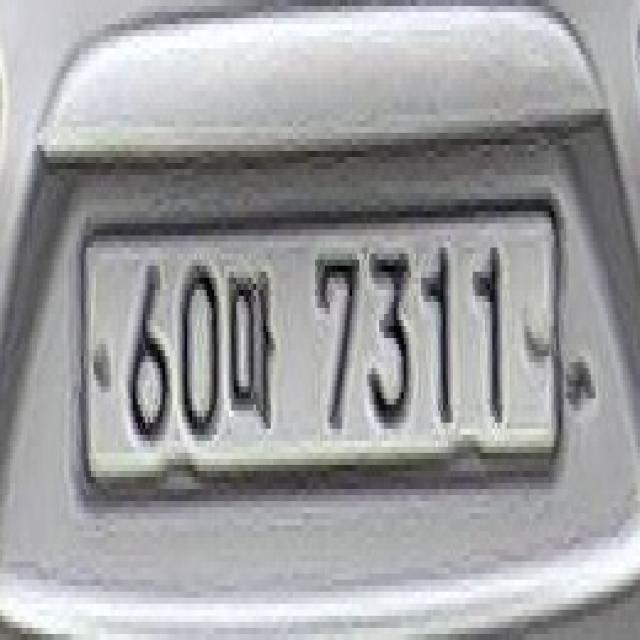0: (174, 252, 224, 443)
1: (464, 235, 518, 435), (418, 233, 460, 433)
3: (367, 232, 412, 434)
6: (120, 250, 170, 449)
7: (306, 241, 359, 439)
license_plate: (75, 177, 576, 496)
ma: (226, 252, 282, 435)
